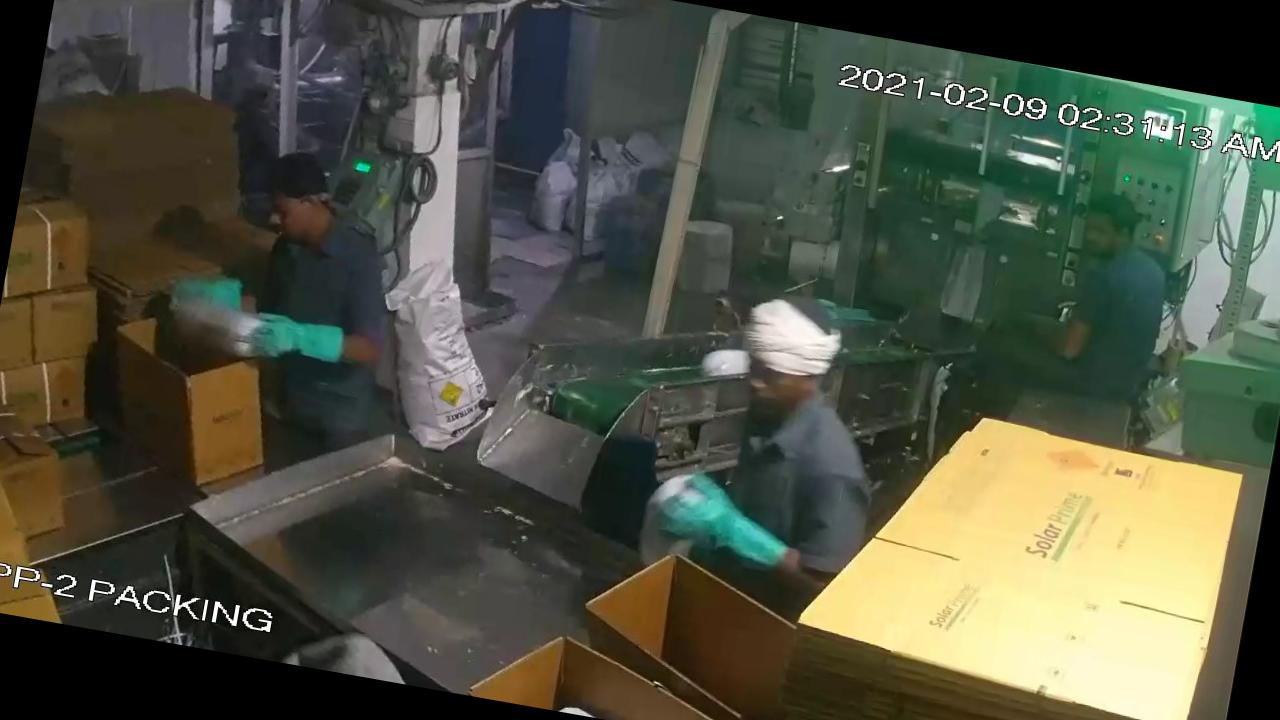Gloves: (631, 464, 820, 589), (214, 274, 372, 390)
